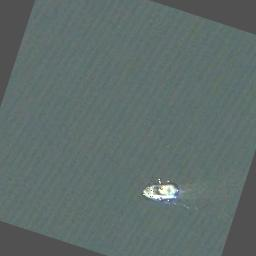boat: (140, 174, 181, 208)
